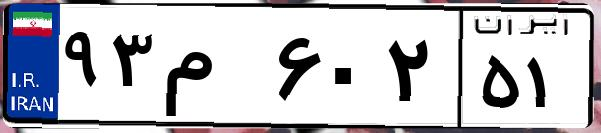0: (330, 28, 385, 110)
1: (525, 38, 570, 115)
2: (385, 28, 445, 110)
3: (110, 28, 158, 98)
5: (475, 38, 525, 113)
6: (270, 28, 330, 110)
9: (57, 26, 110, 100)
م: (158, 20, 270, 120)
